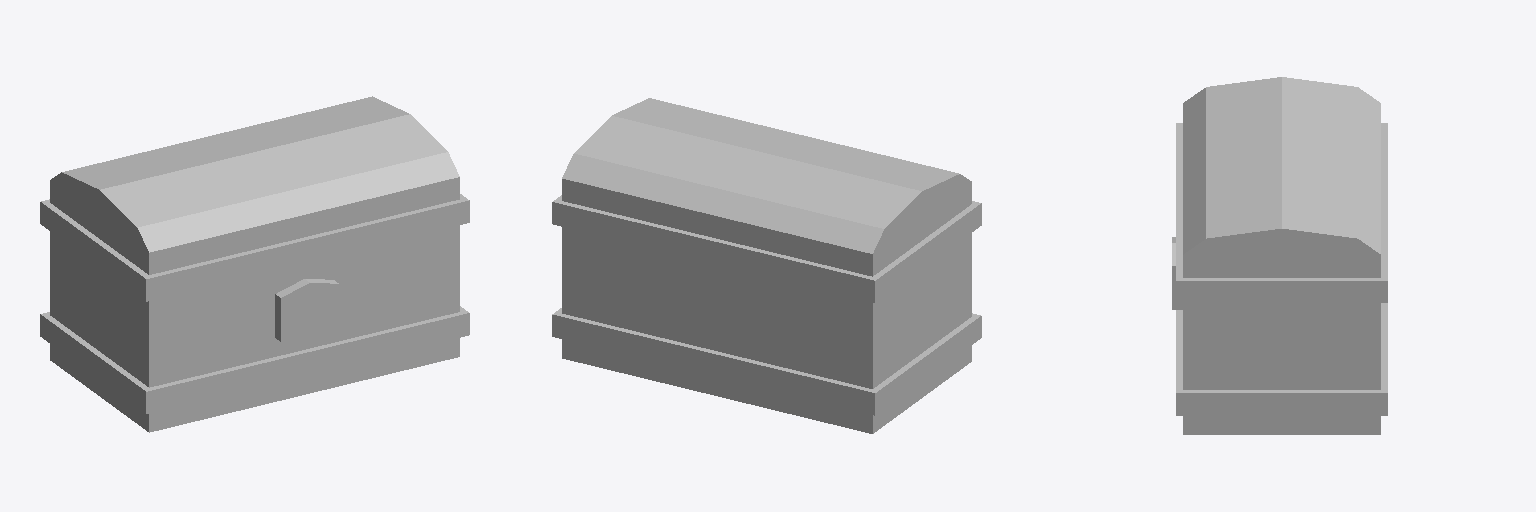
File: chest.obj
3 views of the same model, side by side, from view 1: azimuth 30°, elevation 25°; view 2: azimuth 150°, elevation 25°; view 3: azimuth 270°, elevation 25° (orthographic).
Parts seen in each view (by area): view 1: chest; view 2: chest; view 3: chest.
Boxes of the visible parts, x1,y1,x2,y2 form: chest: [40, 96, 469, 432]; chest: [552, 98, 981, 433]; chest: [1172, 77, 1387, 434].
Size of the model in its own units: 2.2 by 1.34 by 1.28.